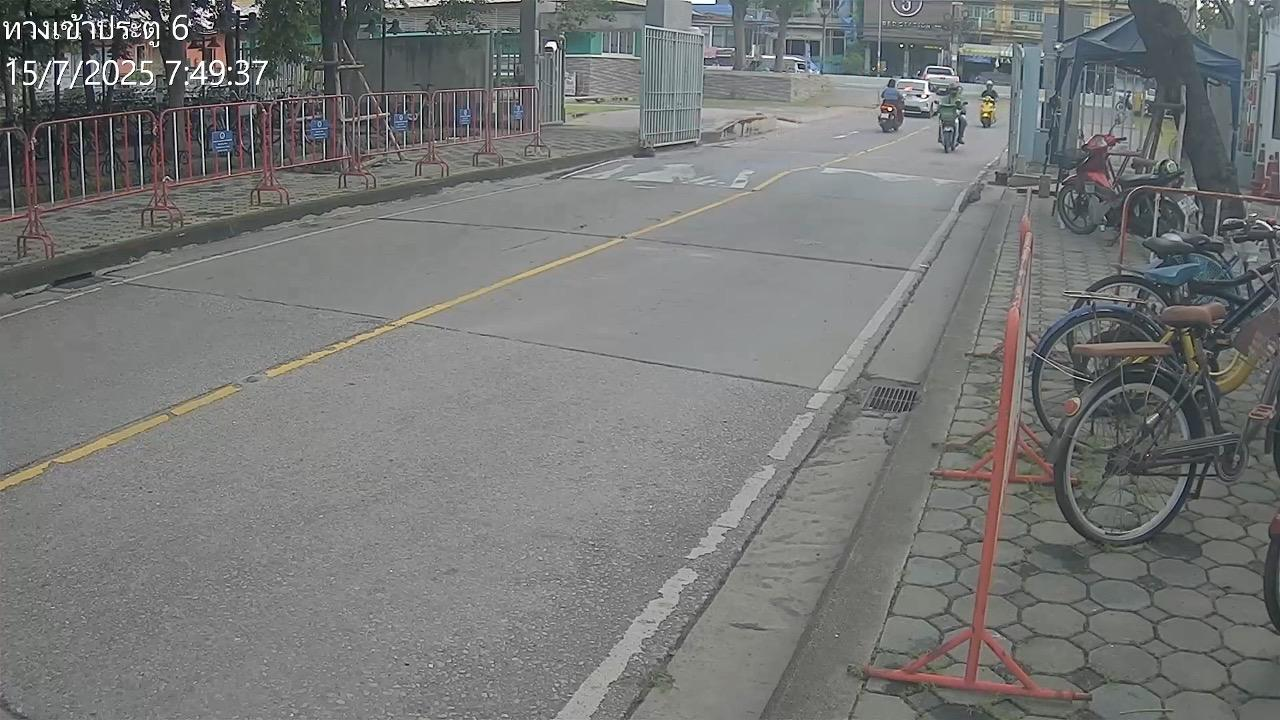With-Helmet: (948, 82, 960, 96)
